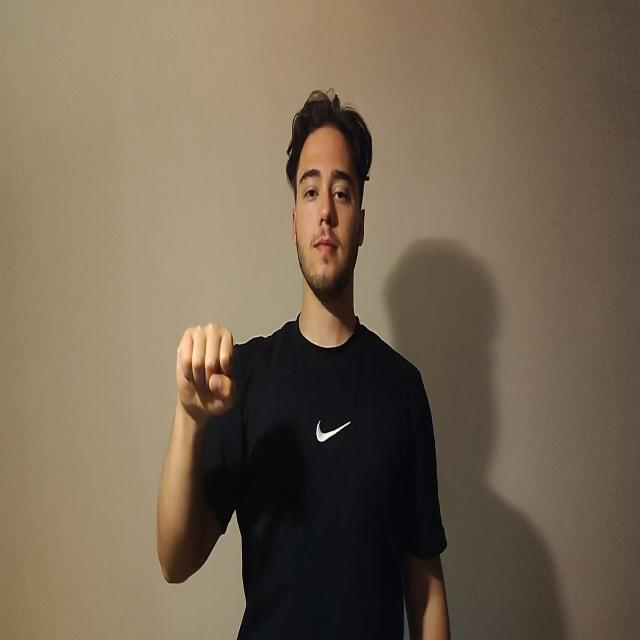yes: (176, 321, 237, 421)
